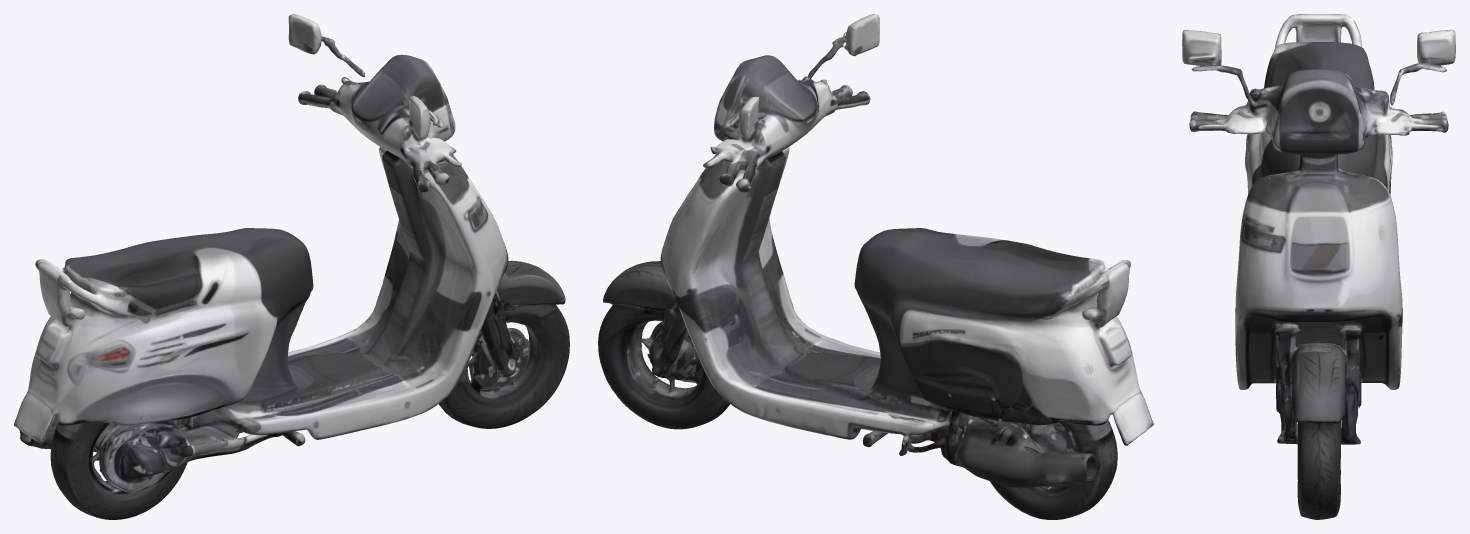
The model's file is Scooter_on_Display_0905121811.fbx.
The picture shows the model from 3 angles, left to right: view 1: azimuth 30°, elevation 25°; view 2: azimuth 150°, elevation 25°; view 3: azimuth 270°, elevation 25°; orthographic projection. The views are drawn at different scales.
Visible parts, largest first — view 1: Mesh_0; view 2: Mesh_0; view 3: Mesh_0.
Part boxes in pixels (left/top/right/bottom): Mesh_0: left=14, top=14, right=569, bottom=519; Mesh_0: left=598, top=14, right=1153, bottom=519; Mesh_0: left=1182, top=14, right=1455, bottom=519.
Bounding box in the file's own units: 200 × 141 × 84.95.
1 material, 1 textured.
